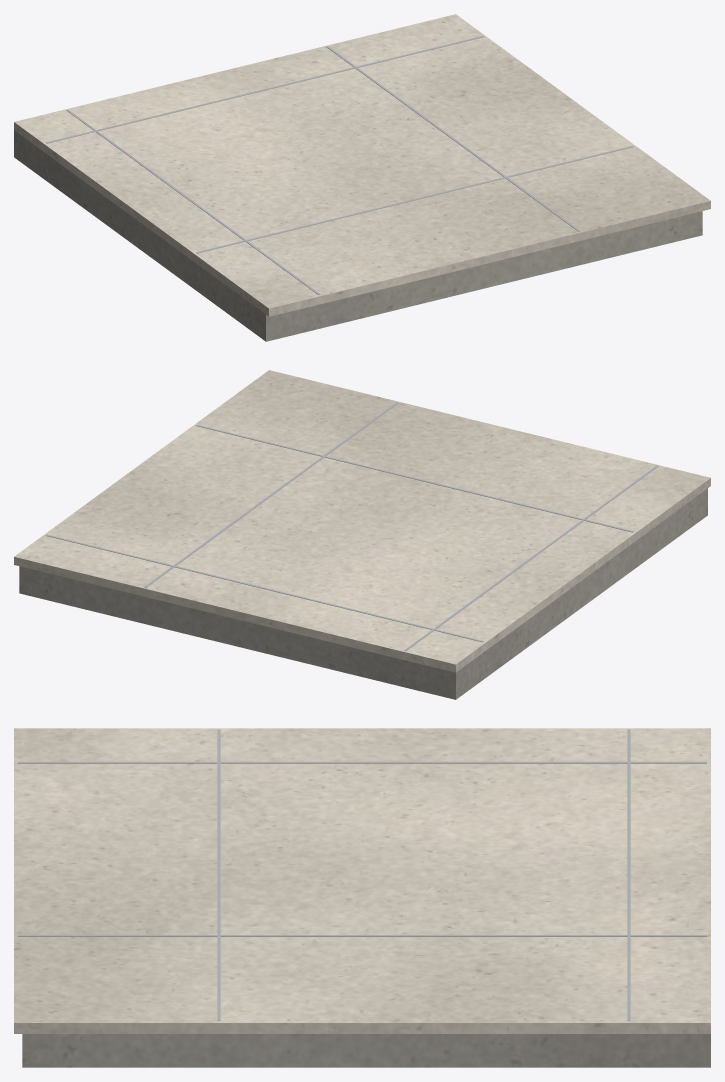
File: floor_terrazzo_g_e30_0_30_0.glb
3 views of the same model, one above another, from view 1: azimuth 30°, elevation 25°; view 2: azimuth 150°, elevation 25°; view 3: azimuth 270°, elevation 25° (orthographic). The views are drawn at different scales.
Visible parts, largest first — view 1: floor_terrazzo_g_e30_0_30_0_terrazzo, floor_terrazzo_g_e30_0_30_0_concrete, floor_terrazzo_g_e30_0_30_0_steel; view 2: floor_terrazzo_g_e30_0_30_0_terrazzo, floor_terrazzo_g_e30_0_30_0_concrete, floor_terrazzo_g_e30_0_30_0_steel; view 3: floor_terrazzo_g_e30_0_30_0_terrazzo, floor_terrazzo_g_e30_0_30_0_concrete, floor_terrazzo_g_e30_0_30_0_steel.
Part boxes in pixels (<box>): floor_terrazzo_g_e30_0_30_0_terrazzo: <box>14,14,710,316</box>; floor_terrazzo_g_e30_0_30_0_concrete: <box>14,130,702,341</box>; floor_terrazzo_g_e30_0_30_0_steel: <box>46,36,633,294</box>; floor_terrazzo_g_e30_0_30_0_terrazzo: <box>14,370,710,672</box>; floor_terrazzo_g_e30_0_30_0_concrete: <box>19,488,707,699</box>; floor_terrazzo_g_e30_0_30_0_steel: <box>46,402,658,650</box>; floor_terrazzo_g_e30_0_30_0_terrazzo: <box>14,728,710,1033</box>; floor_terrazzo_g_e30_0_30_0_concrete: <box>22,1034,710,1067</box>; floor_terrazzo_g_e30_0_30_0_steel: <box>18,729,706,1020</box>.
Size of the model in its own units: 1.7 by 0.1315 by 1.7.
3 materials, 2 textured.
